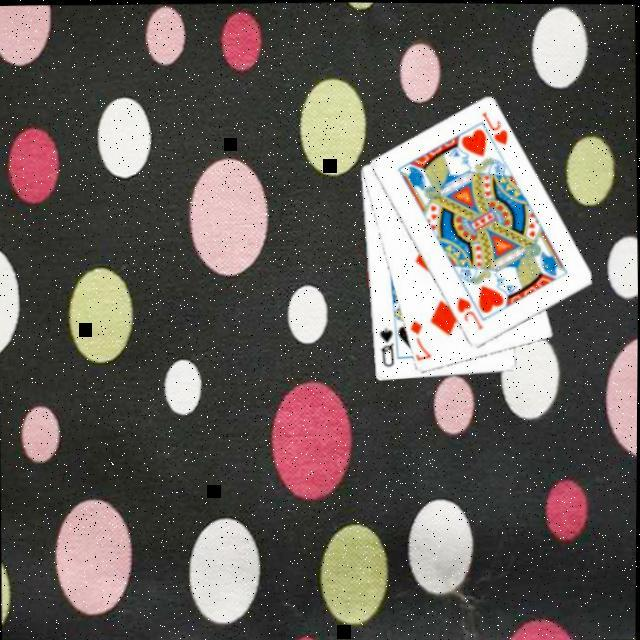7D: (404, 316, 433, 362)
JH: (450, 291, 484, 331), (476, 107, 509, 147)
QS: (373, 323, 395, 367)
